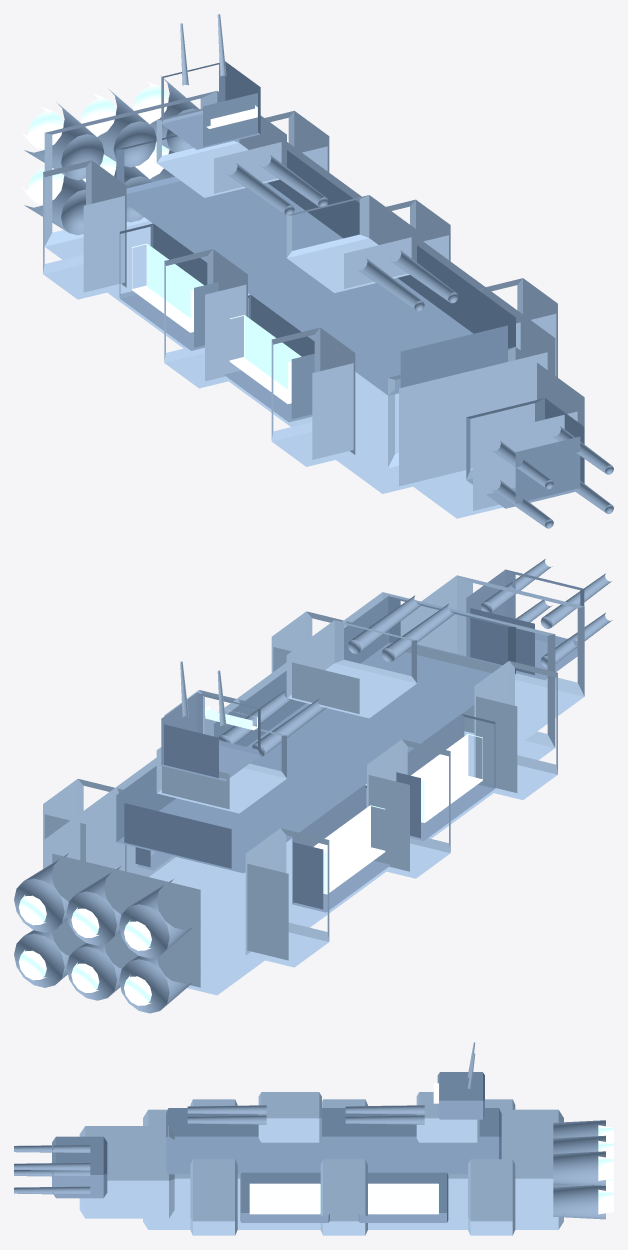
Rendered from fleet_flagship.glb.
3 renders of one model, top to bottom at view 1: azimuth 30°, elevation 25°; view 2: azimuth 150°, elevation 25°; view 3: azimuth 270°, elevation 25°, orthographic. The views are drawn at different scales.
Parts seen in each view (by area): view 1: fleet_flagship; view 2: fleet_flagship; view 3: fleet_flagship.
Boxes of the visible parts, x1,y1,x2,y2 form: fleet_flagship: (21, 14, 613, 528); fleet_flagship: (14, 559, 612, 1013); fleet_flagship: (14, 1042, 613, 1235).
Size of the model in its own units: 1.34 by 1.31 by 4.56.
